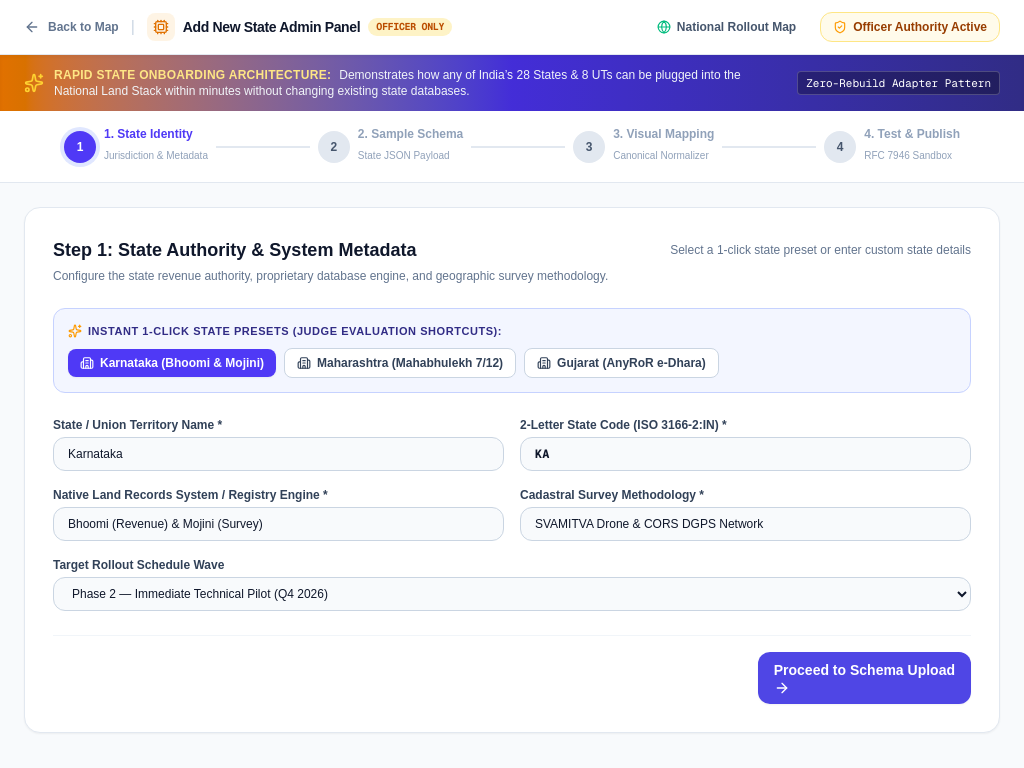
Scenario: State Onboarding Admin Panel & Schema Adapter Wizard › allows navigating backward from Step 2 to Step 1 and Step 3 to Step 2
Advance to Step 2
What coordinates should you click on to do the following:
click the button with test id "next-step-1-btn"
I would click on:
 (864, 678)
Its box is [758,652,971,704].
(page scrolled)
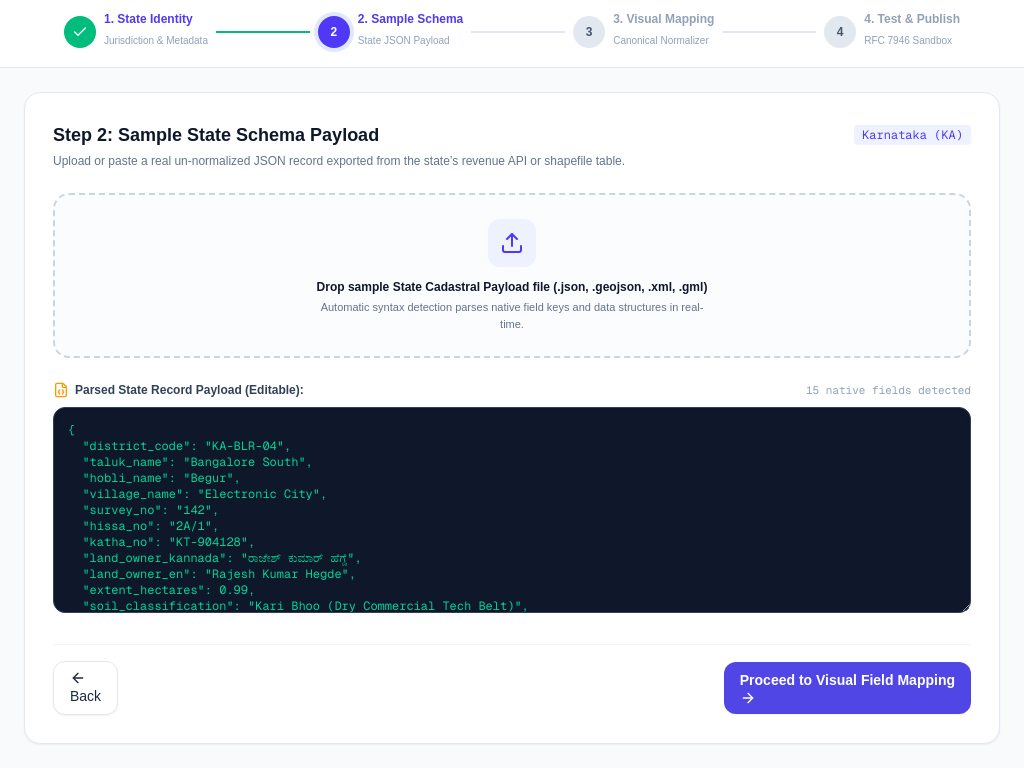
Expected: the text "Step 2: Sample State Schema Payload" is shown, [53,121,379,149]
Click Back
What coordinates should you click on to do the following:
click the button "Back"
I would click on:
 (86, 688)
Its box is [53,660,118,714].
(page scrolled)
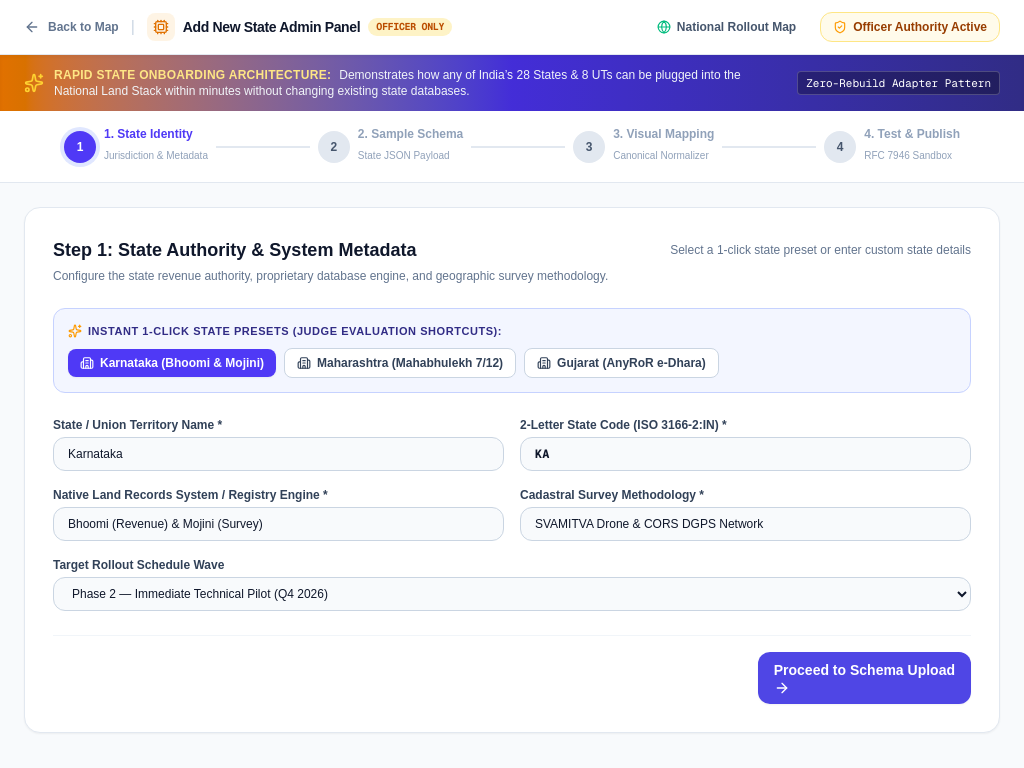
Expected: the text "Step 1: State Authority & System Metadata" is shown, [53,236,416,264]
Advance to Step 3
What coordinates should you click on to do the following:
click the button with test id "next-step-1-btn"
I would click on:
 (864, 678)
Its box is [758,652,971,704].
(page scrolled)
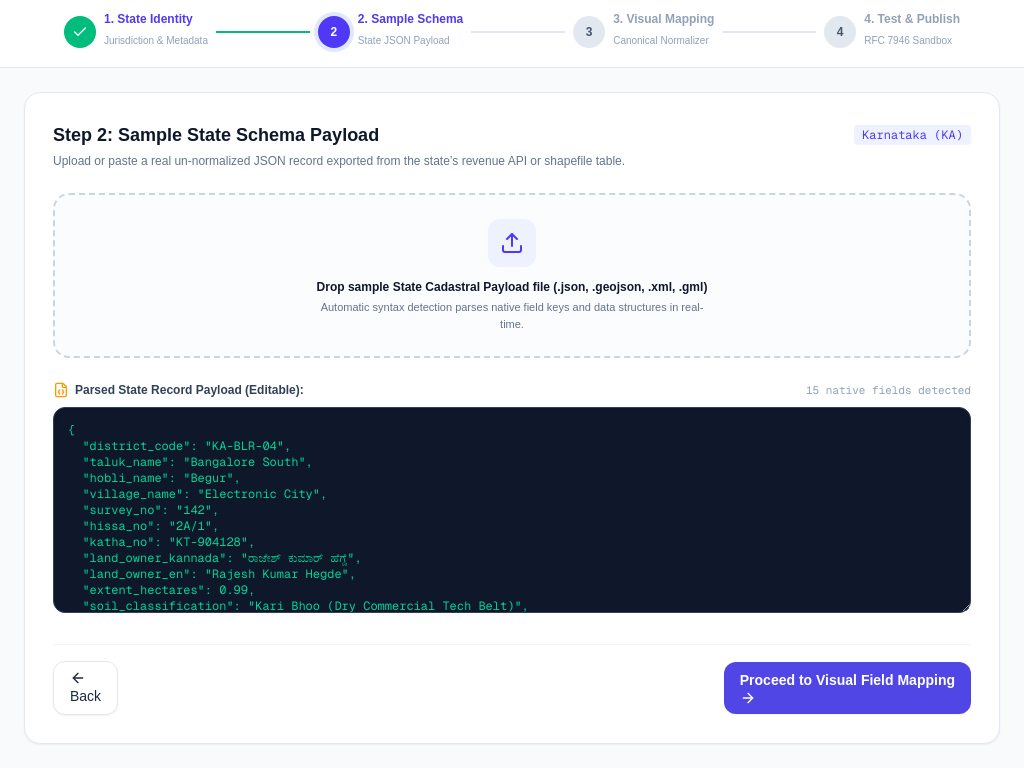
What coordinates should you click on to do the following:
click the button with test id "next-step-2-btn"
I would click on:
 (847, 688)
Its box is [724,662,971,714].
(page scrolled)
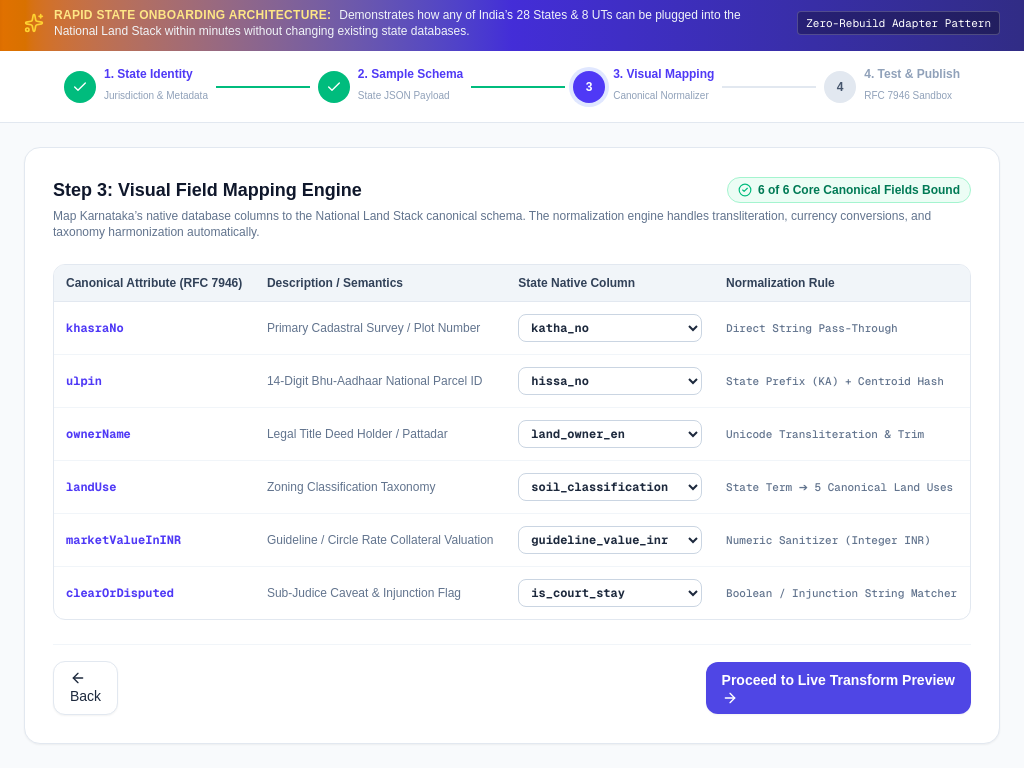
Expected: the text "Step 3: Visual Field Mapping Engine" is shown, [53,176,362,204]
Click Back
What coordinates should you click on to do the following:
click the button "Back"
I would click on:
 (86, 688)
Its box is [53,661,118,715].
(page scrolled)
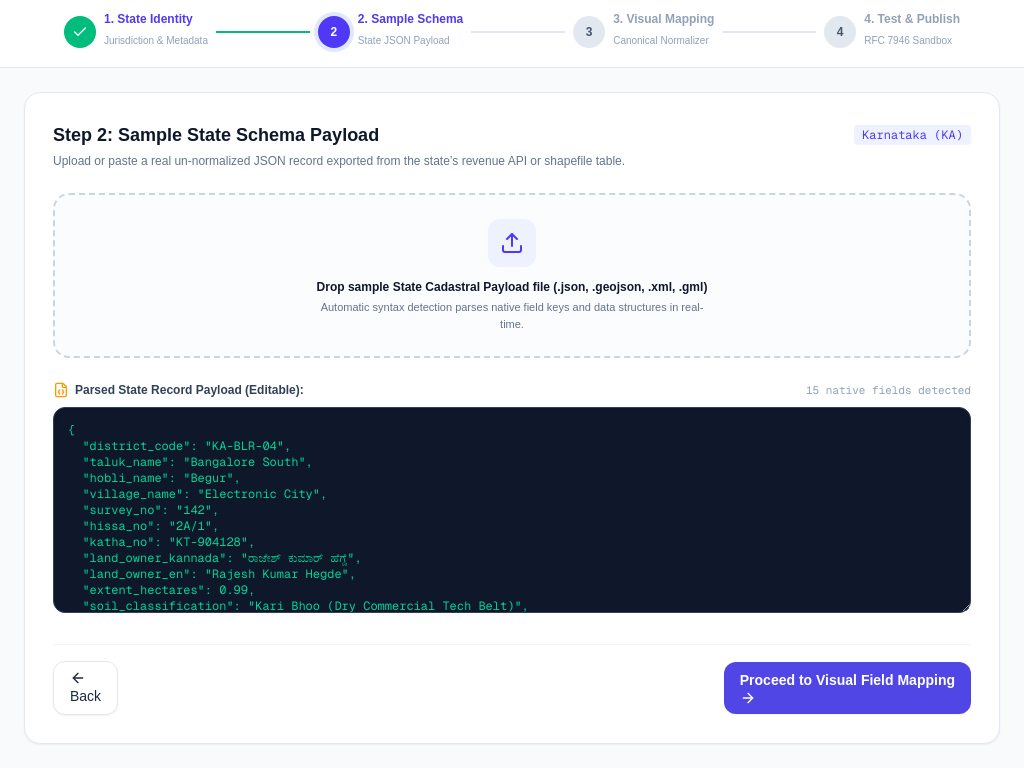
Expected: the text "Step 2: Sample State Schema Payload" is shown, [53,121,379,149]
